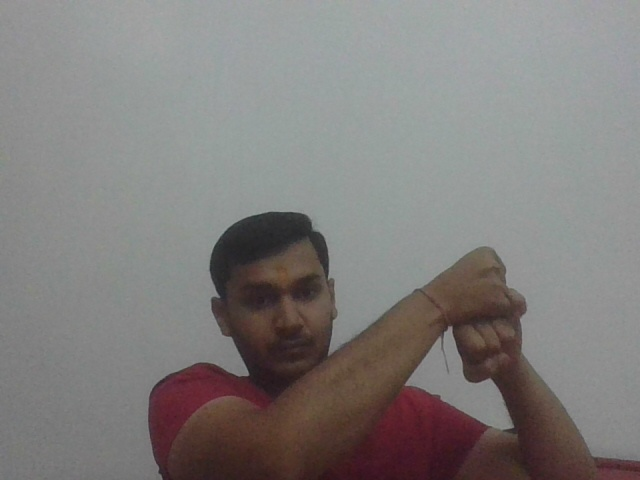S: (439, 241, 530, 390)
